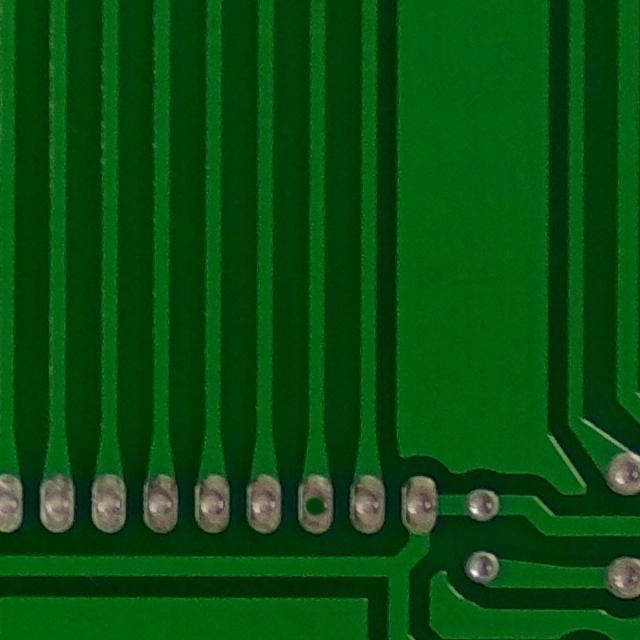missing_hole: (288, 470, 344, 539)
